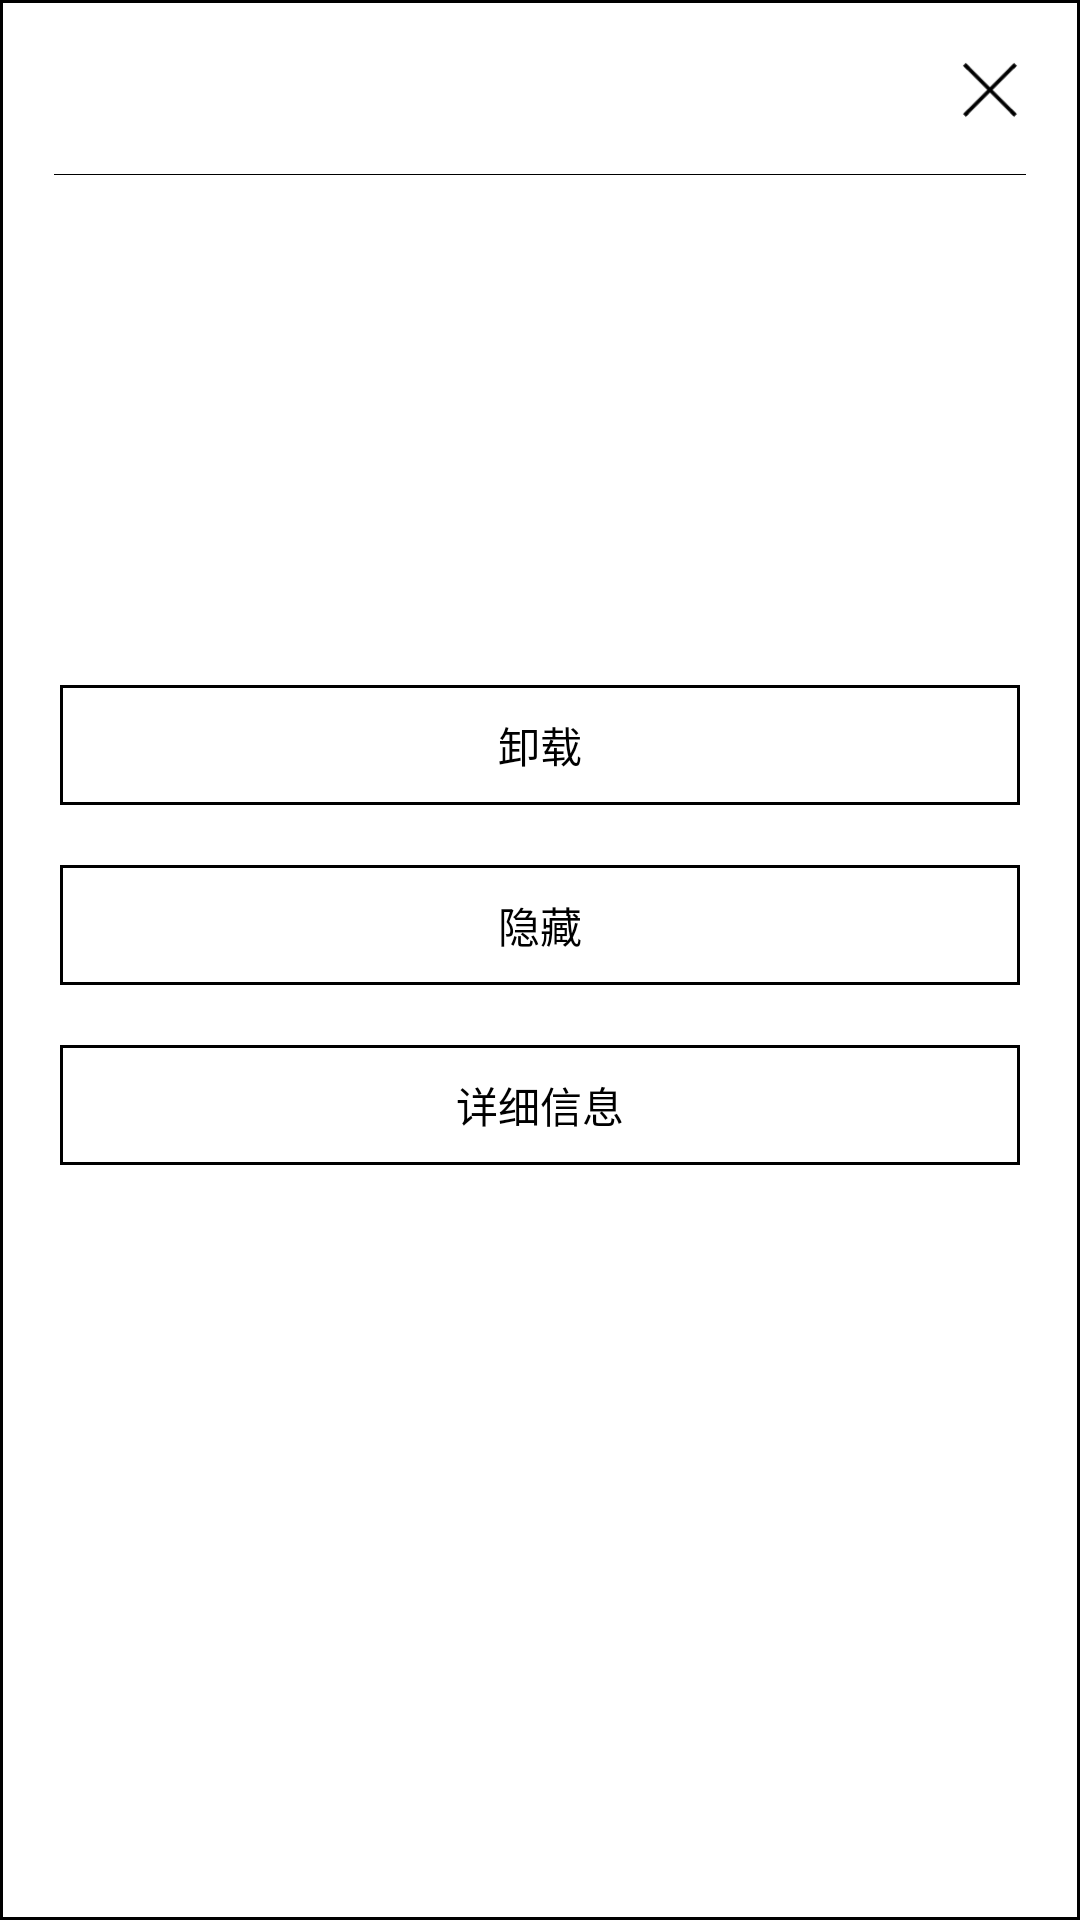

Icons on this 1080*1920 Android screen, each with its box as [x1, y1, x2, y2]:
close: [963, 63, 1017, 117]
